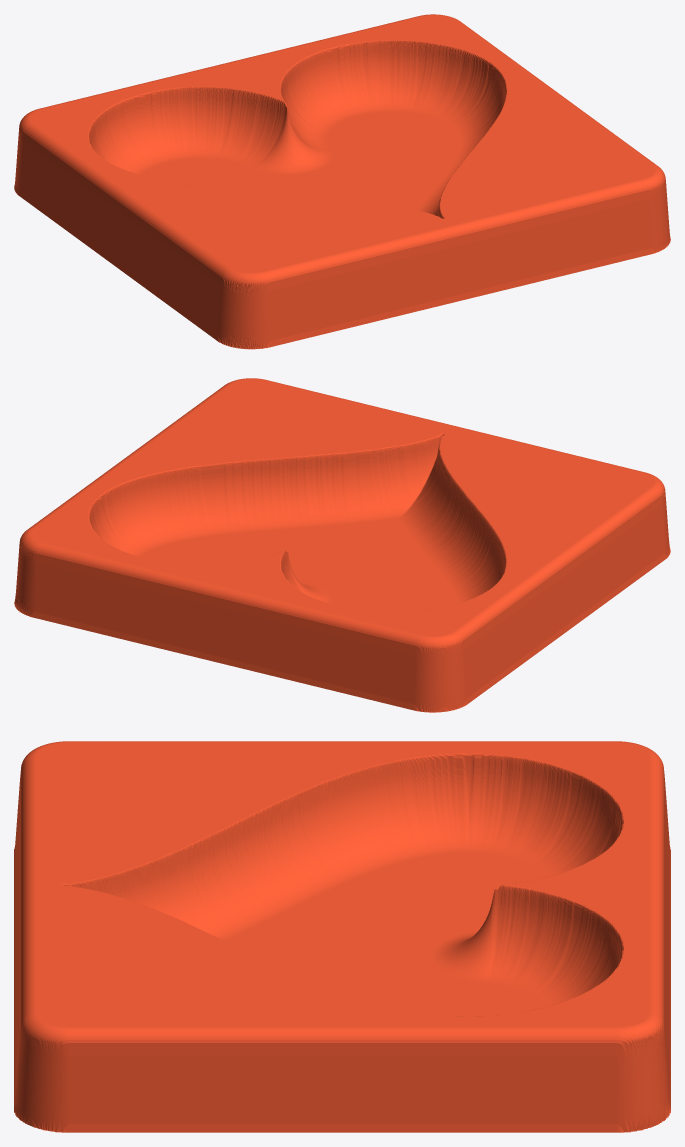
The model's file is mold.glb.
The picture shows the model from 3 angles, top to bottom: view 1: azimuth 30°, elevation 25°; view 2: azimuth 150°, elevation 25°; view 3: azimuth 270°, elevation 25°; orthographic projection. The views are drawn at different scales.
Parts seen in each view (by area): view 1: geometry_0; view 2: geometry_0; view 3: geometry_0.
Boxes of the visible parts, x1,y1,x2,y2 form: geometry_0: (14,14,670,349); geometry_0: (14,378,670,712); geometry_0: (14,741,670,1132).
Bounding box in the file's own units: 0.1178 × 0.0175 × 0.108.
